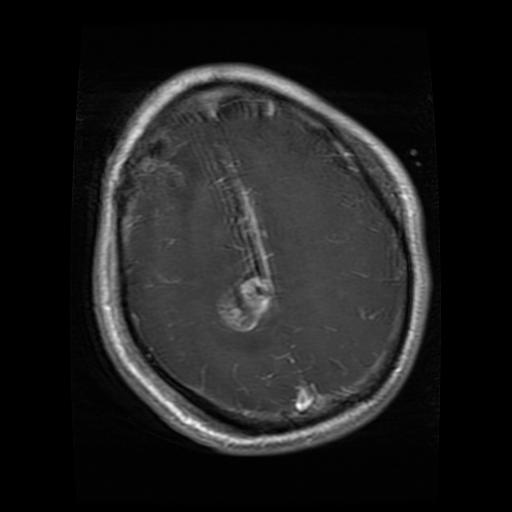Gliomia_tumour: (213, 272, 273, 332)
